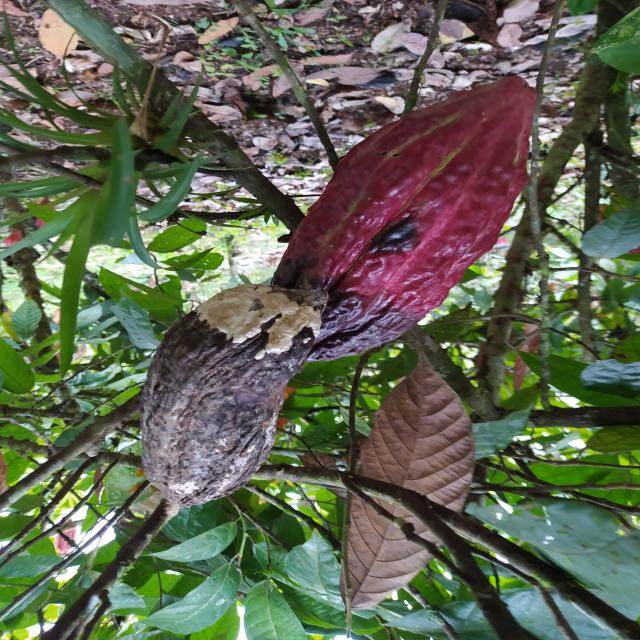Fitoftora: (269, 75, 537, 364)
Monilia: (141, 286, 324, 509)
